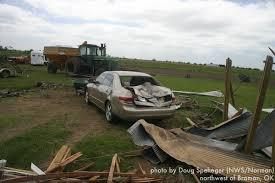boot-dent: (128, 84, 164, 106)
